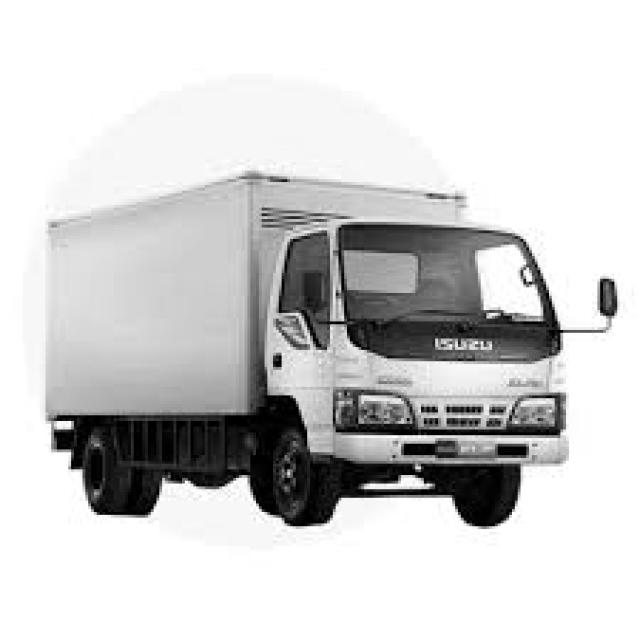truck: (250, 191, 624, 535)
